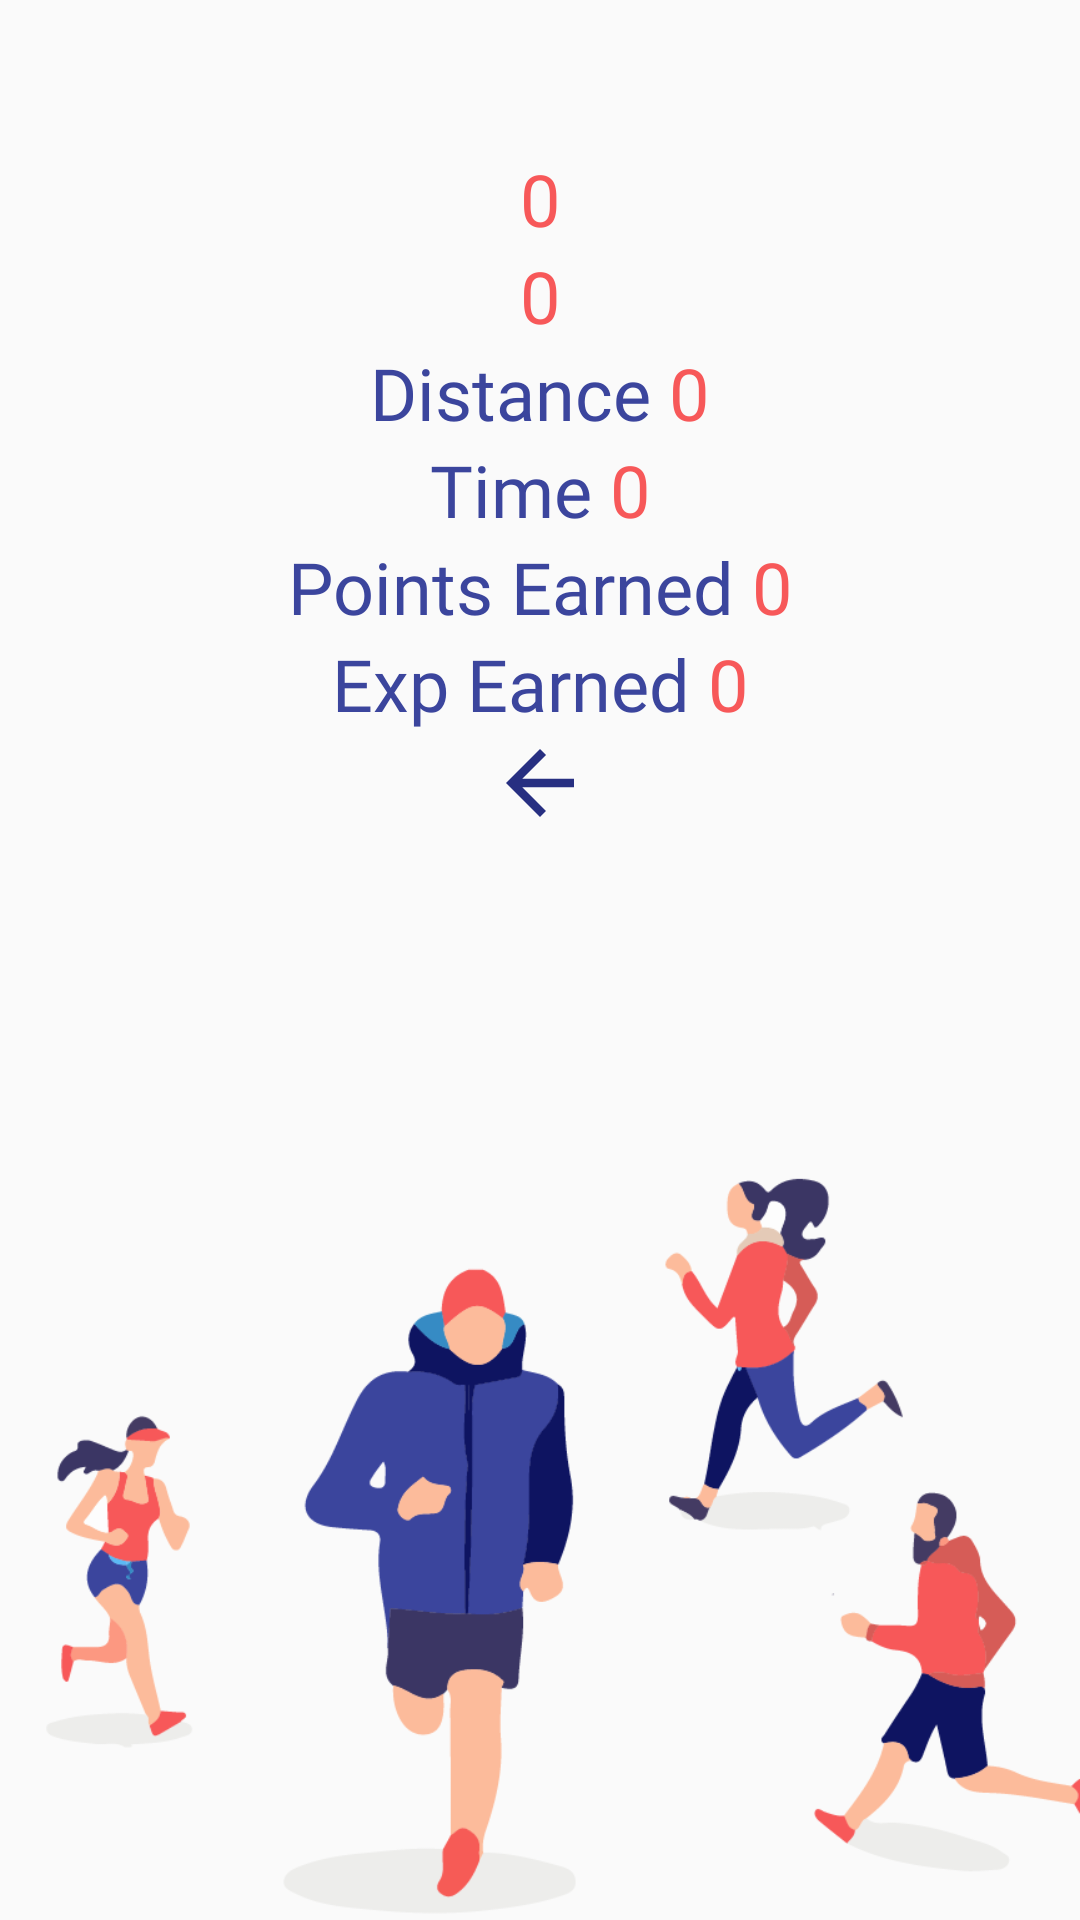

Icon bounding boxes for this 1080x1920 phone screenshot, format bbox=(x1, y1, x2, y2):
arrow back: bbox=(506, 749, 574, 817)
